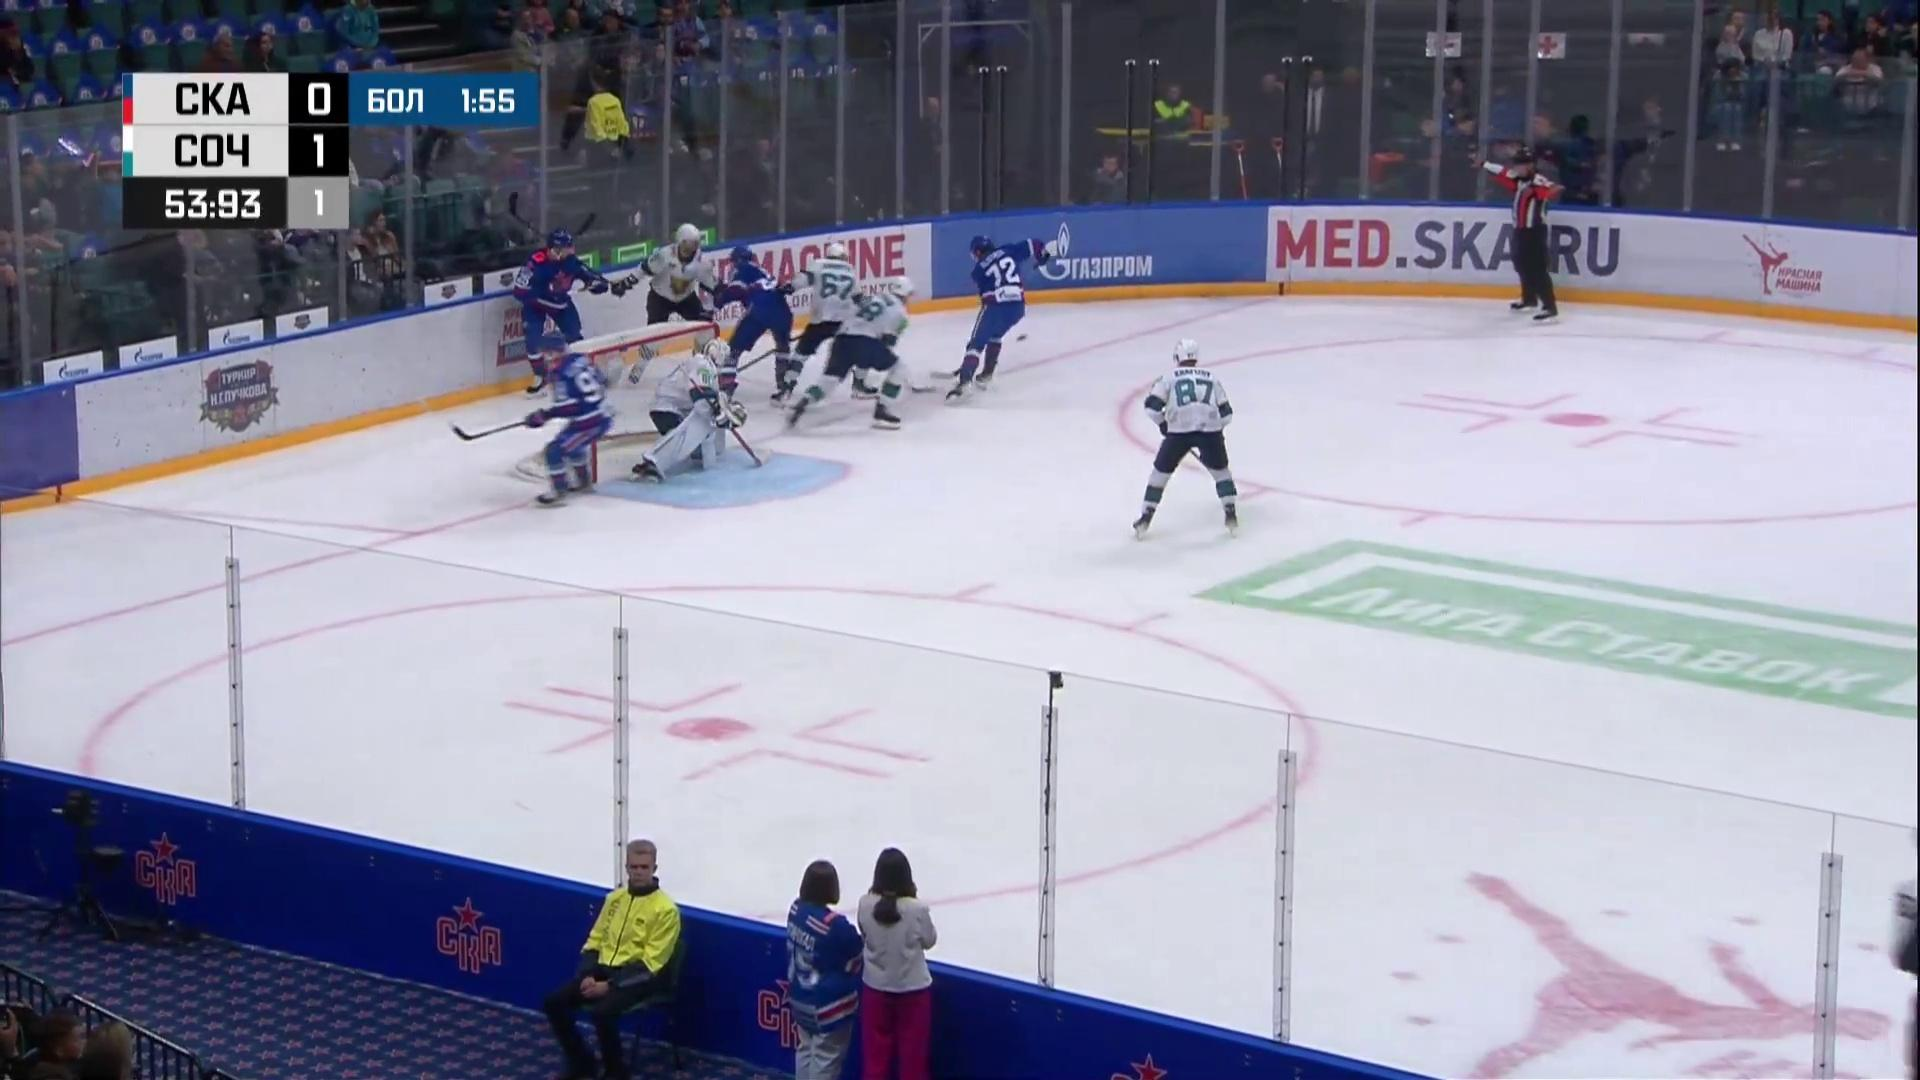ball: (1017, 334, 1027, 342)
